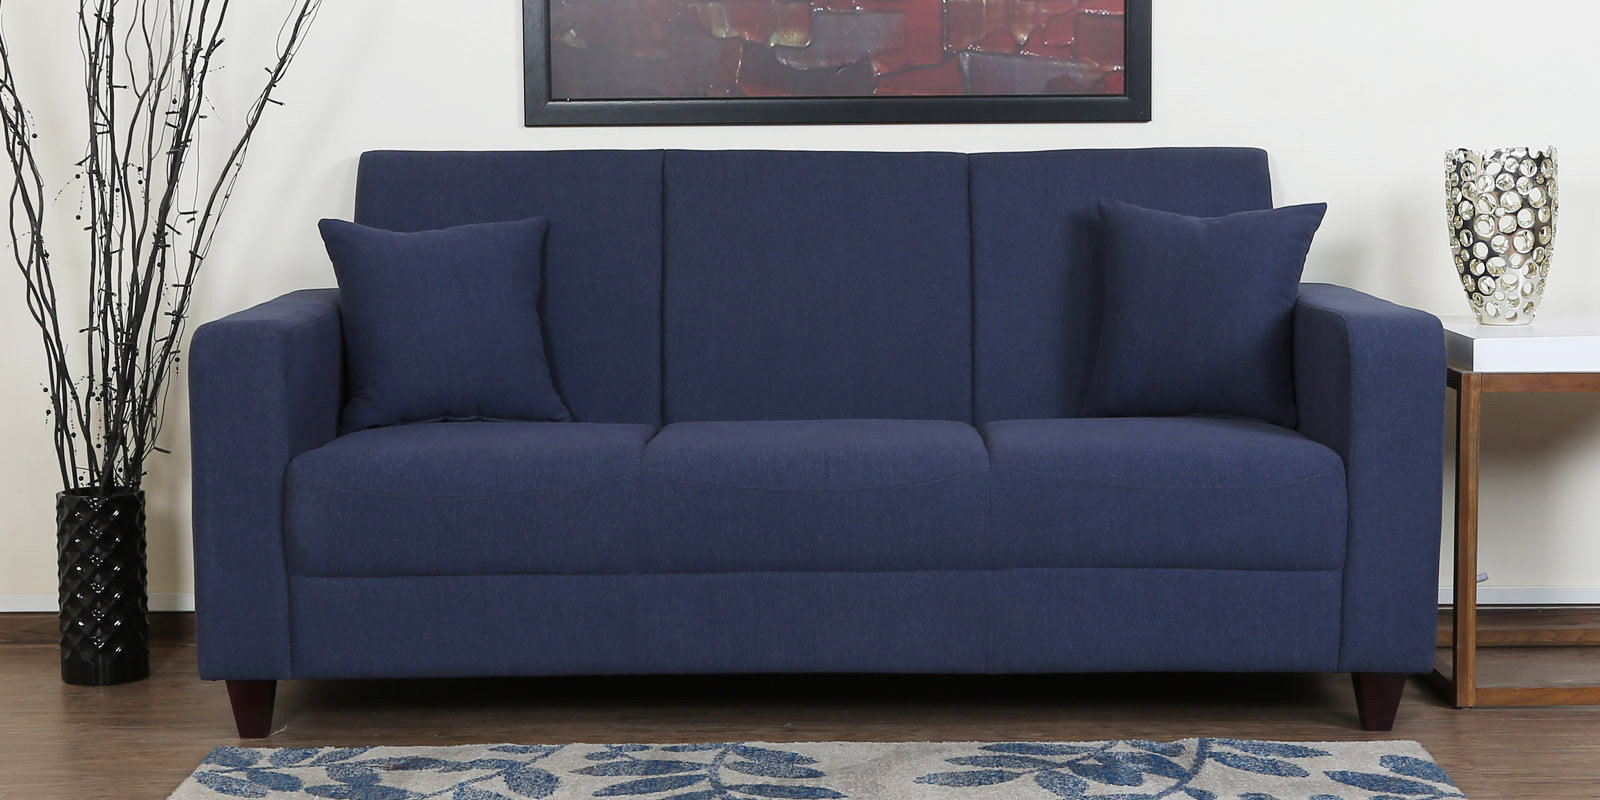Alba Three Seater Sofa in Navy Blue Colour by CasaCraft: (184, 140, 1447, 730)
